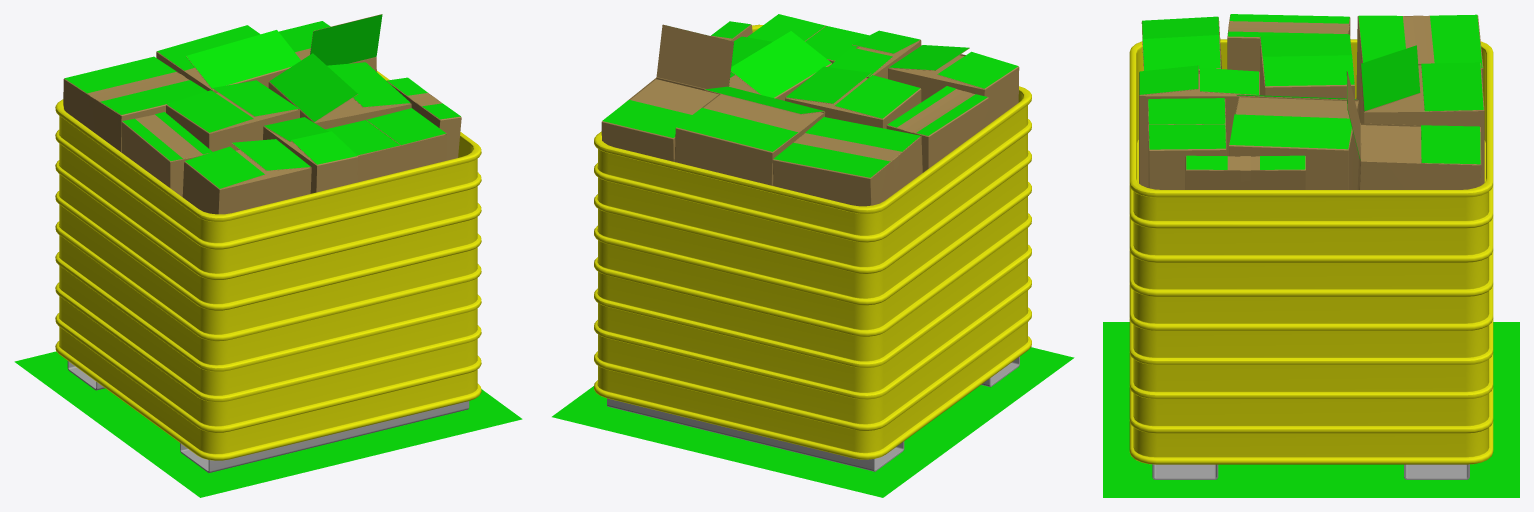
Rendered from large_container.fbx.
3 renders of one model, left to right at view 1: azimuth 30°, elevation 25°; view 2: azimuth 150°, elevation 25°; view 3: azimuth 270°, elevation 25°, orthographic. The views are drawn at different scales.
Visible parts, largest first — view 1: container_large_01, decal_container_large_stickers, decal_container_large_shdw, box_06, box_05, container_large_02, box_10, box_04, box_01, box_03, box_08, box_02 (+1 smaller); view 2: container_large_01, decal_container_large_stickers, decal_container_large_shdw, box_09, box_07, box_05, container_large_02, box_10, box_06, box_01, box_03, tape_02; view 3: container_large_01, decal_container_large_stickers, decal_container_large_shdw, box_09, box_08, box_07, box_02, container_large_02, box_03, box_10, box_04, box_01 (+3 smaller).
Part boxes in pixels (x1=…): container_large_01: x1=55, y1=71, x2=481, y2=460; decal_container_large_stickers: x1=64, y1=14, x2=460, y2=188; decal_container_large_shdw: x1=14, y1=351, x2=522, y2=497; box_06: x1=182, y1=143, x2=311, y2=214; box_05: x1=63, y1=71, x2=189, y2=152; container_large_02: x1=67, y1=361, x2=469, y2=473; box_10: x1=121, y1=114, x2=208, y2=196; box_04: x1=357, y1=120, x2=447, y2=182; box_01: x1=166, y1=88, x2=299, y2=151; box_03: x1=263, y1=126, x2=358, y2=193; box_08: x1=268, y1=81, x2=411, y2=129; box_02: x1=387, y1=81, x2=461, y2=160; container_large_01: x1=594, y1=24, x2=1031, y2=459; decal_container_large_stickers: x1=602, y1=14, x2=1018, y2=177; decal_container_large_shdw: x1=552, y1=347, x2=1074, y2=497; box_09: x1=601, y1=24, x2=733, y2=161; box_07: x1=674, y1=89, x2=825, y2=185; box_05: x1=772, y1=133, x2=922, y2=206; container_large_02: x1=607, y1=356, x2=1019, y2=471; box_10: x1=886, y1=89, x2=988, y2=172; box_06: x1=888, y1=48, x2=1019, y2=124; box_01: x1=785, y1=73, x2=921, y2=128; box_03: x1=852, y1=40, x2=921, y2=78; tape_02: x1=796, y1=137, x2=898, y2=170; container_large_01: x1=1129, y1=39, x2=1493, y2=464; decal_container_large_stickers: x1=1139, y1=14, x2=1483, y2=169; decal_container_large_shdw: x1=1103, y1=322, x2=1519, y2=497; box_09: x1=1347, y1=71, x2=1481, y2=189; box_08: x1=1229, y1=95, x2=1358, y2=189; box_07: x1=1360, y1=47, x2=1484, y2=185; box_02: x1=1185, y1=156, x2=1305, y2=189; container_large_02: x1=1152, y1=464, x2=1469, y2=479; box_03: x1=1139, y1=66, x2=1259, y2=187; box_10: x1=1227, y1=15, x2=1350, y2=94; box_04: x1=1148, y1=99, x2=1226, y2=189; box_01: x1=1260, y1=35, x2=1354, y2=98.
Bounding box in the file's own units: 236 × 232 × 236.
